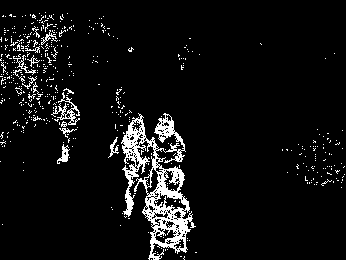person: (155, 169, 202, 260), (125, 113, 153, 210), (155, 111, 190, 178), (52, 84, 79, 165)
